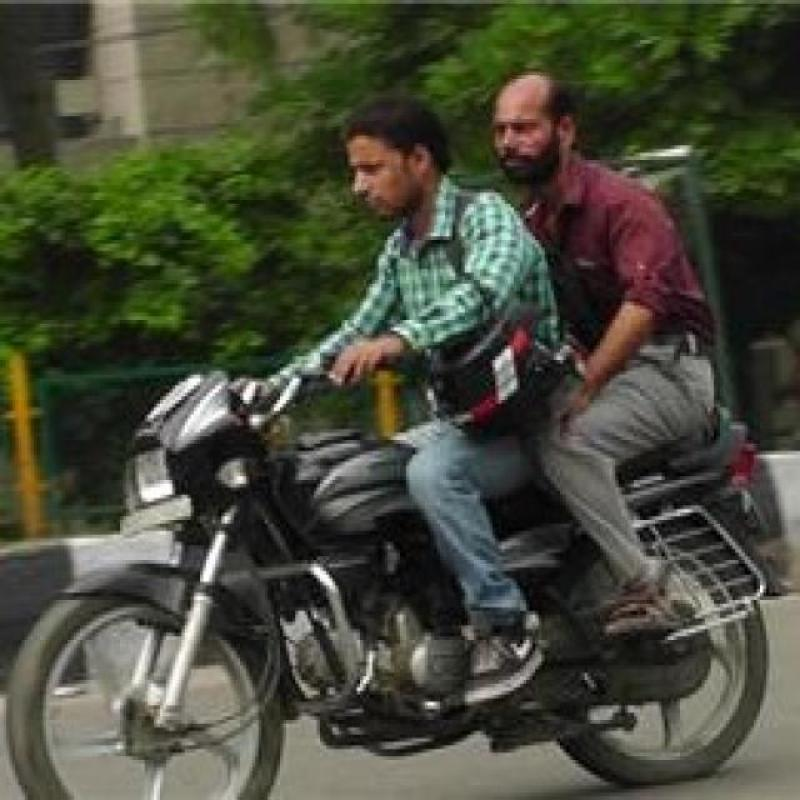nohelmet: (326, 96, 444, 230), (493, 68, 585, 192)
